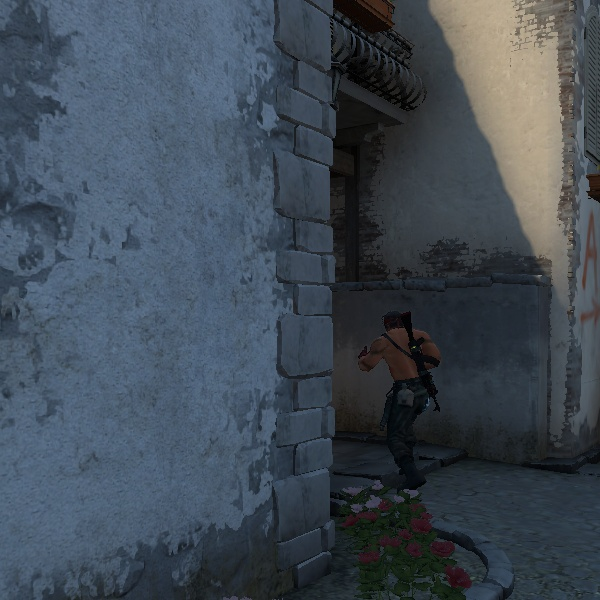t_body: (347, 303, 469, 499)
t_head: (376, 306, 423, 350)
